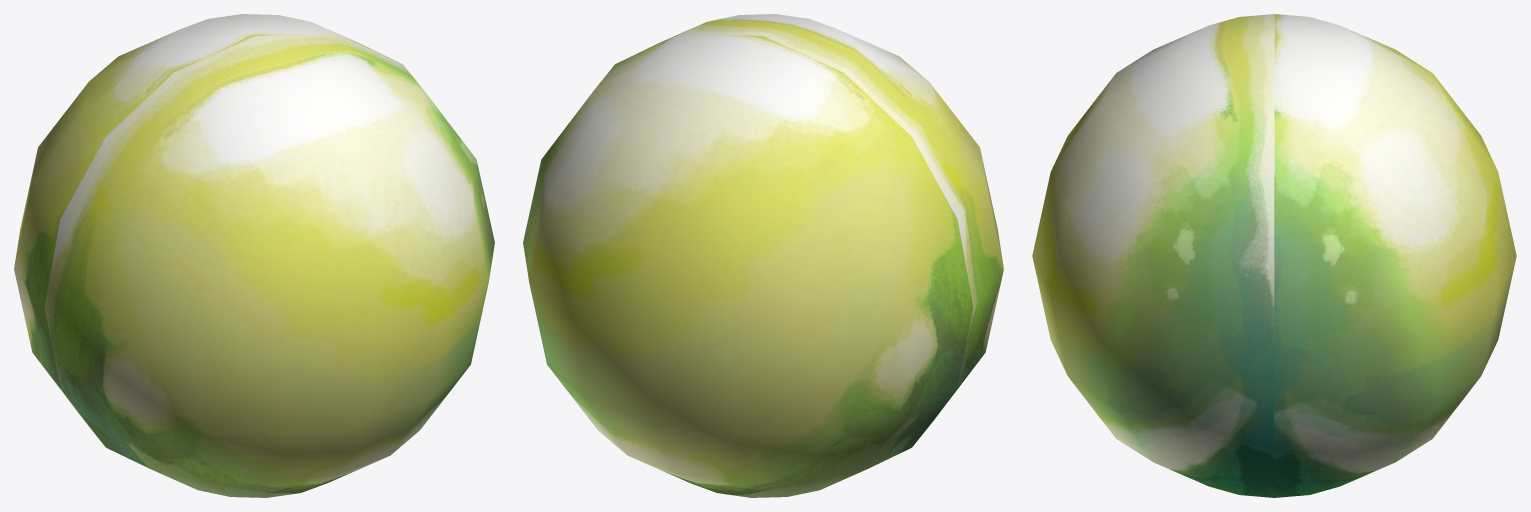
File: limonada.obj
3 views of the same model, side by side, from view 1: azimuth 30°, elevation 25°; view 2: azimuth 150°, elevation 25°; view 3: azimuth 270°, elevation 25° (orthographic).
Visible parts, largest first — view 1: esfera; view 2: esfera; view 3: esfera.
Part boxes in pixels (x1,y1,x2,y2): esfera: (14,14,494,497); esfera: (523,14,1003,497); esfera: (1032,14,1516,497).
Size of the model in its own units: 15.65 by 15.65 by 15.65.
1 material, 1 textured.
